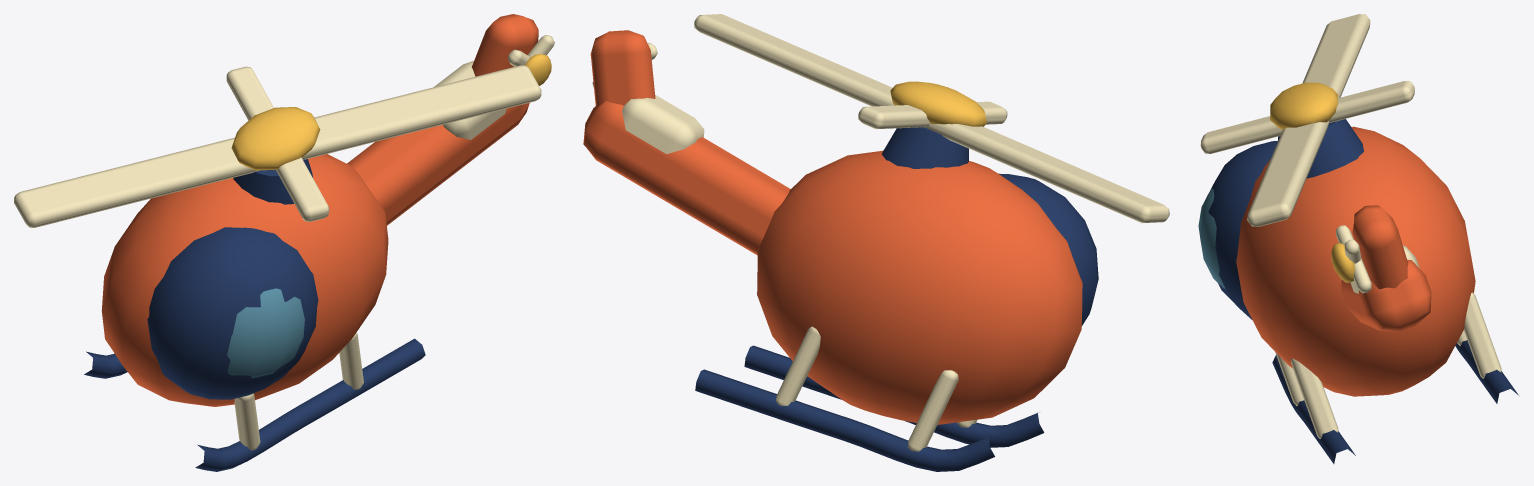
File: helicopter.glb
3 renders of one model, left to right at view 1: azimuth 30°, elevation 25°; view 2: azimuth 150°, elevation 25°; view 3: azimuth 270°, elevation 25°, orthographic. The views are drawn at different scales.
Parts seen in each view (by area): view 1: helicopter; view 2: helicopter; view 3: helicopter.
Boxes of the visible parts, left/top/right/bottom form: helicopter: left=14, top=14, right=554, bottom=471; helicopter: left=583, top=14, right=1169, bottom=471; helicopter: left=1198, top=14, right=1518, bottom=463.
Bounding box in the file's own units: 1.33 × 0.8232 × 0.6703.
